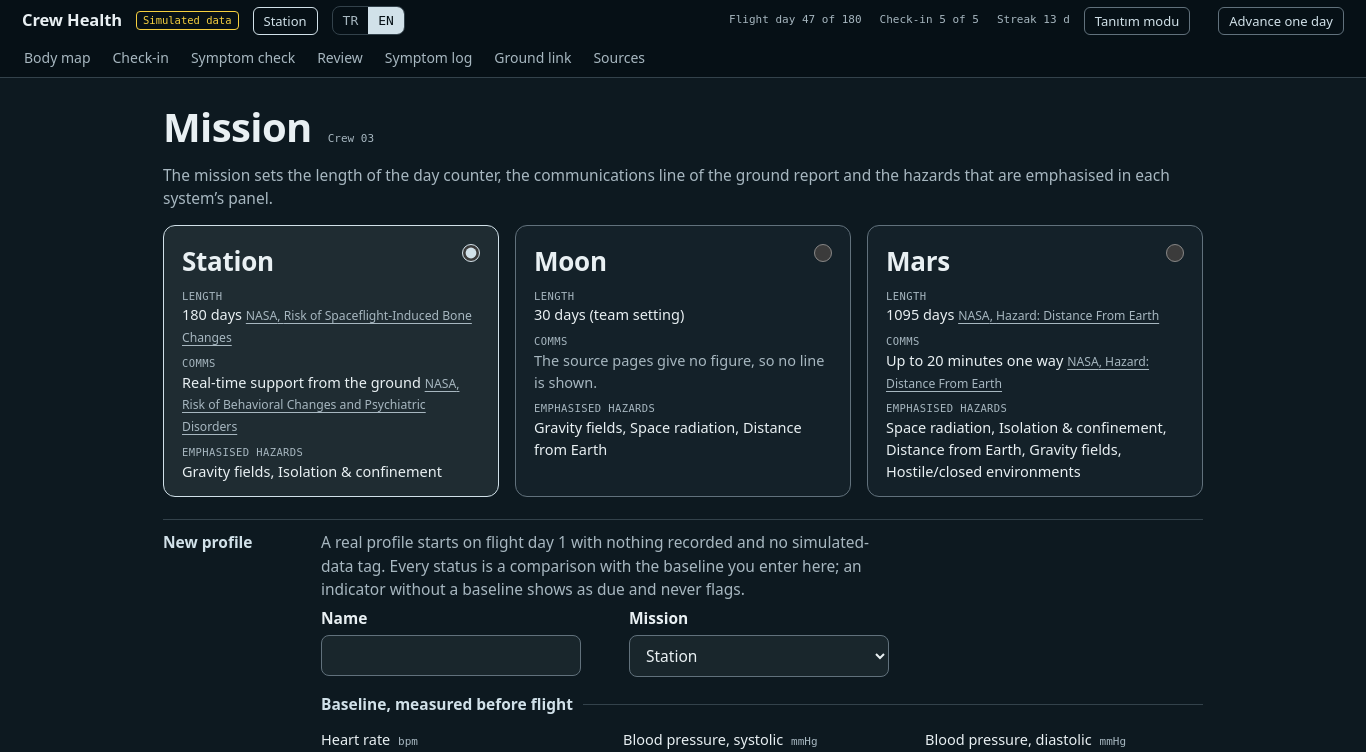
it: choosing Moon clamps day 47 to 30 and shows no comms line
Click the 2nd radio button at [823, 252], box [814, 244, 832, 262]
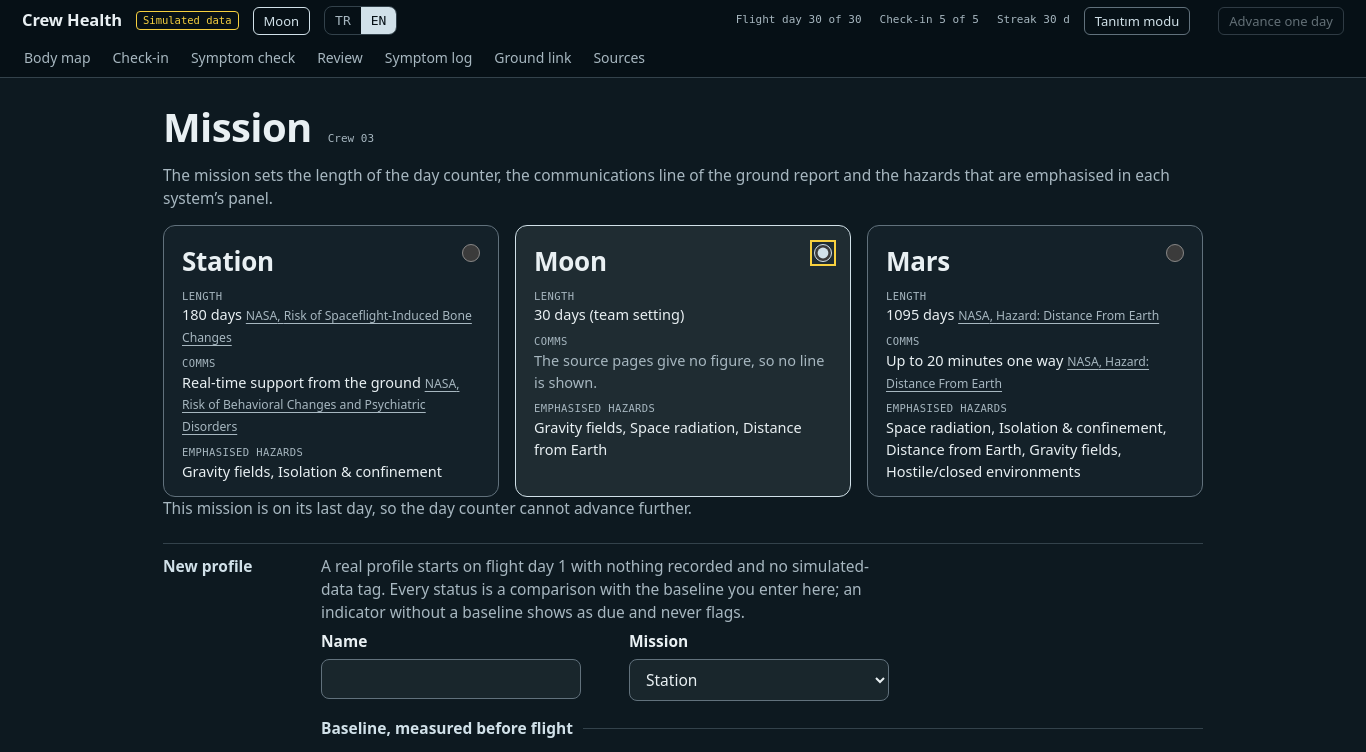
Expected: the text "Flight day 30 of 30" is shown, [736, 12, 862, 29]
